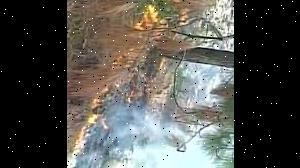fire: (132, 0, 164, 37)
